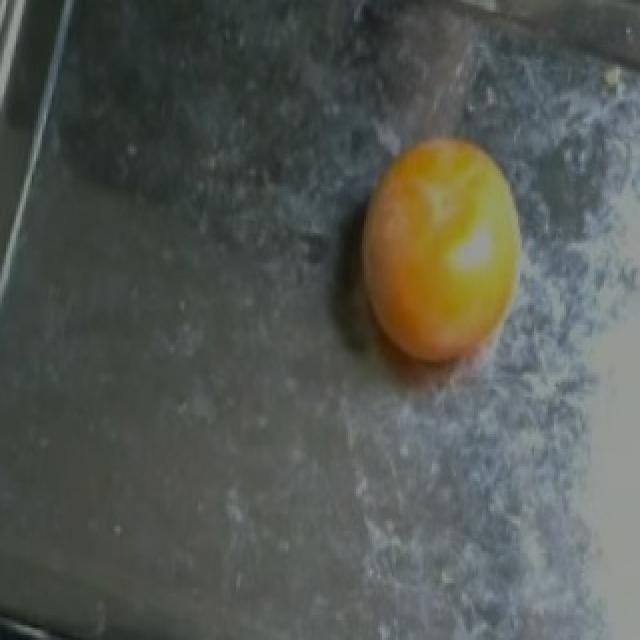Fruit: (324, 114, 542, 399)
